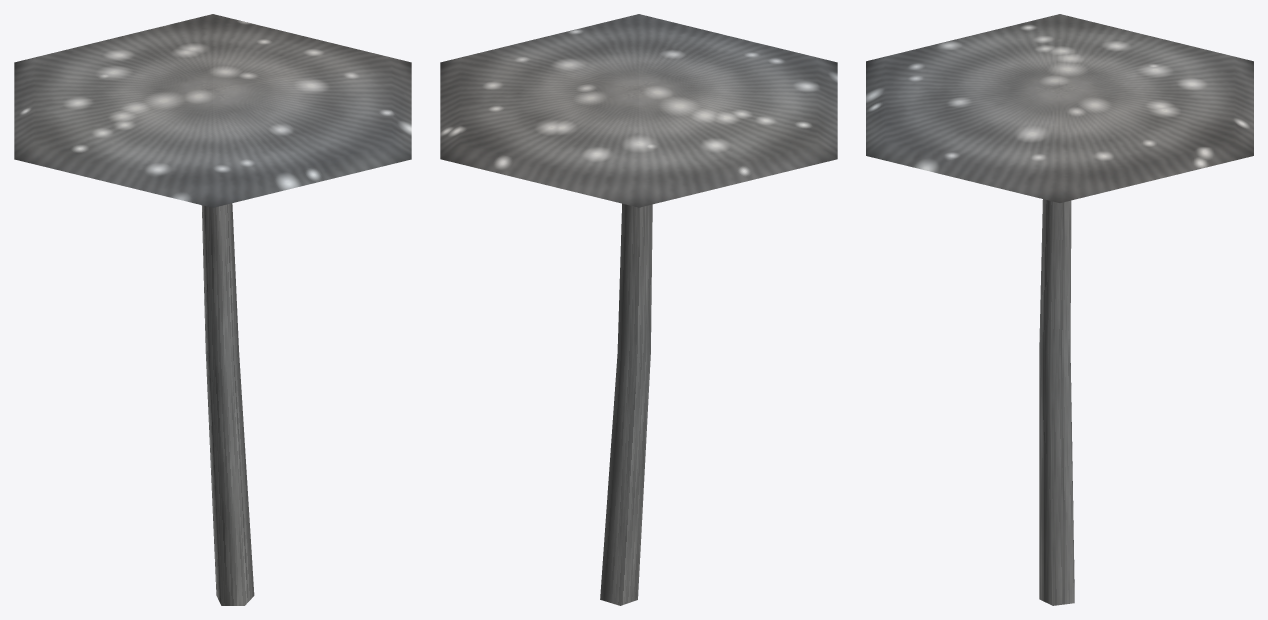
The model's file is parasol_l2.gltf.
The picture shows the model from 3 angles, left to right: view 1: azimuth 30°, elevation 25°; view 2: azimuth 150°, elevation 25°; view 3: azimuth 270°, elevation 25°; orthographic projection. The views are drawn at different scales.
Visible parts, largest first — view 1: parasol_l2; view 2: parasol_l2; view 3: parasol_l2.
Boxes of the visible parts, box(x1,y1,x2,y2) form: parasol_l2: box(14, 14, 411, 605); parasol_l2: box(440, 14, 837, 605); parasol_l2: box(866, 14, 1253, 605).
Bounding box in the file's own units: 2 × 2.48 × 1.73.
Materials: 2 (2 with a texture image).
